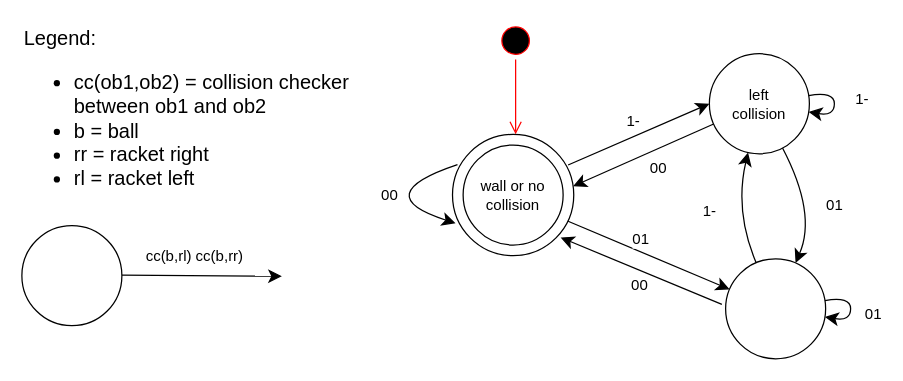
The diagram is 903 pixels wide and 381 high, and some of its shapes have lost their labels. The shapes that lost their labels are listed below. From the top down, each one's centre as x and y in pixels, then its label:
[71,275]: State
[775,308]: right collision
